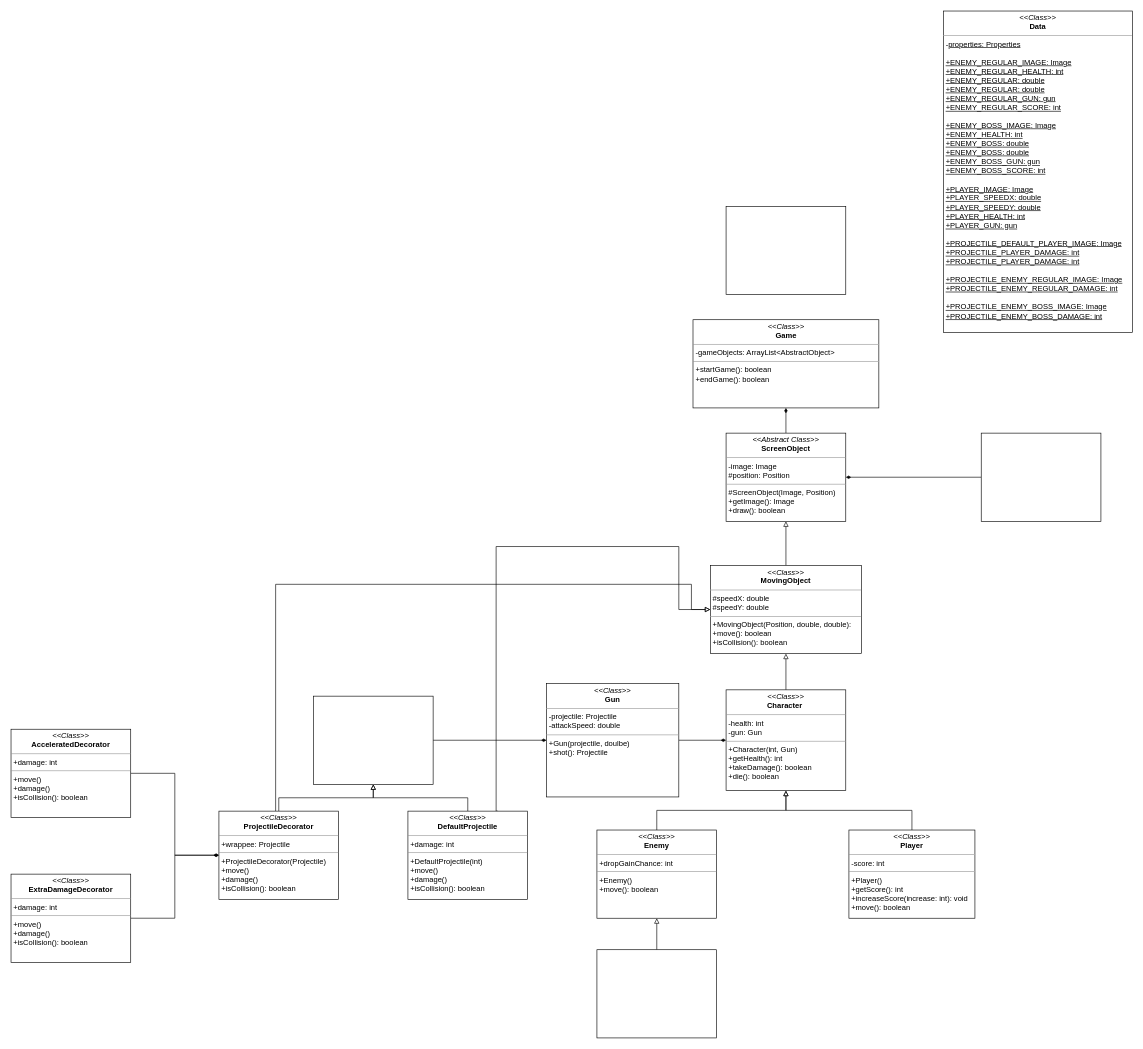
This 1143x1049 diagram has some shape labels left out. Each missing label, with the centre of its shape:
<<Class>> Boss +Boss(): point (656, 993)
<<Class>> Main: point (785, 250)
<<Class>> Position +x: double +y: double +Position(double, double): point (1041, 476)
<<Interface>> Projectile +move() +damage() +isCollision(): boolean: point (373, 740)
